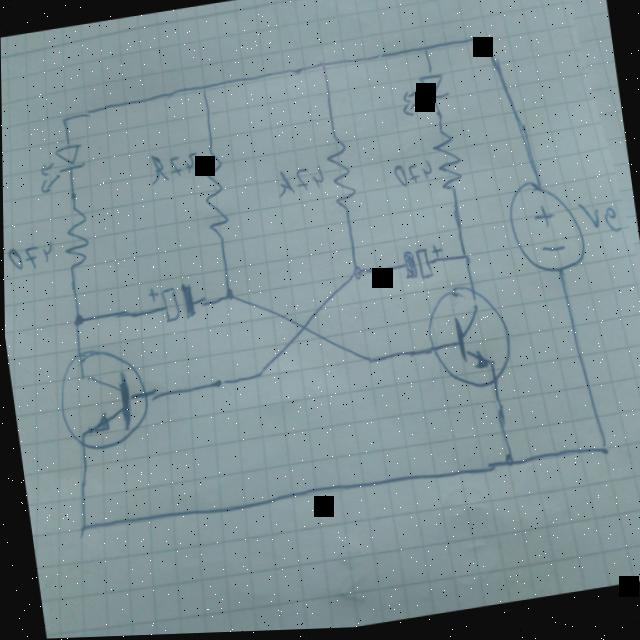capacitor: (144, 278, 197, 330), (398, 244, 445, 286)
crossover: (286, 311, 322, 346)
diode: (32, 140, 89, 197), (396, 71, 451, 123)
junction: (55, 111, 77, 133), (594, 441, 613, 464), (74, 517, 91, 540), (349, 264, 365, 287), (455, 248, 472, 269), (363, 351, 379, 373), (220, 286, 239, 304), (249, 364, 264, 386), (315, 57, 331, 76), (501, 455, 516, 475), (478, 36, 493, 55), (71, 312, 85, 330), (197, 83, 211, 98), (420, 44, 432, 59)
resistor: (321, 138, 360, 220), (195, 154, 232, 240), (57, 202, 95, 274), (429, 126, 466, 198)
source: (502, 179, 587, 286)
text: (145, 148, 201, 189), (575, 200, 623, 245), (4, 237, 58, 277), (273, 165, 326, 204), (388, 159, 433, 193)
transistor: (49, 339, 155, 458), (419, 281, 516, 400)
